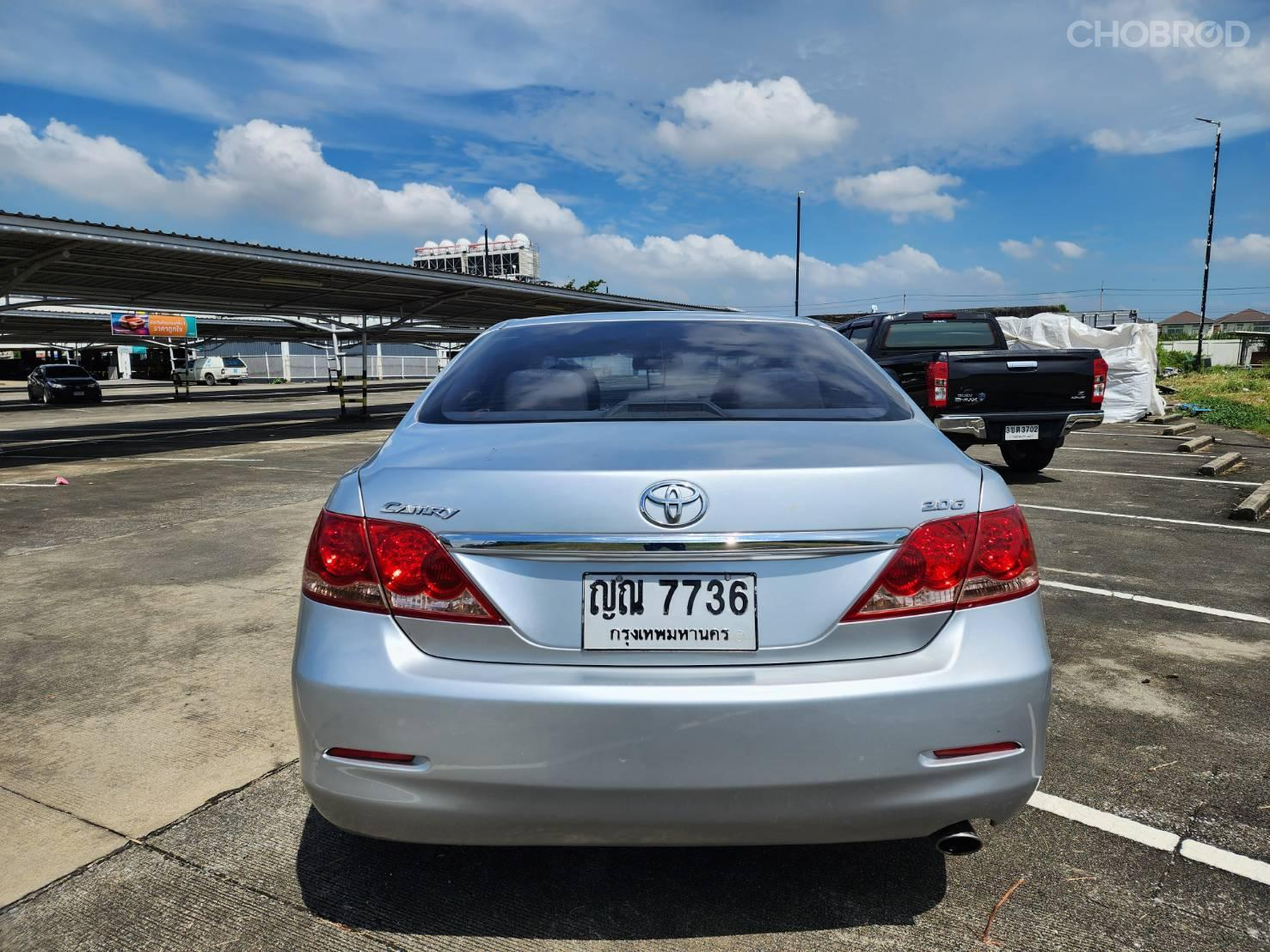license-plate: (579, 569, 760, 654), (1002, 421, 1045, 443)
